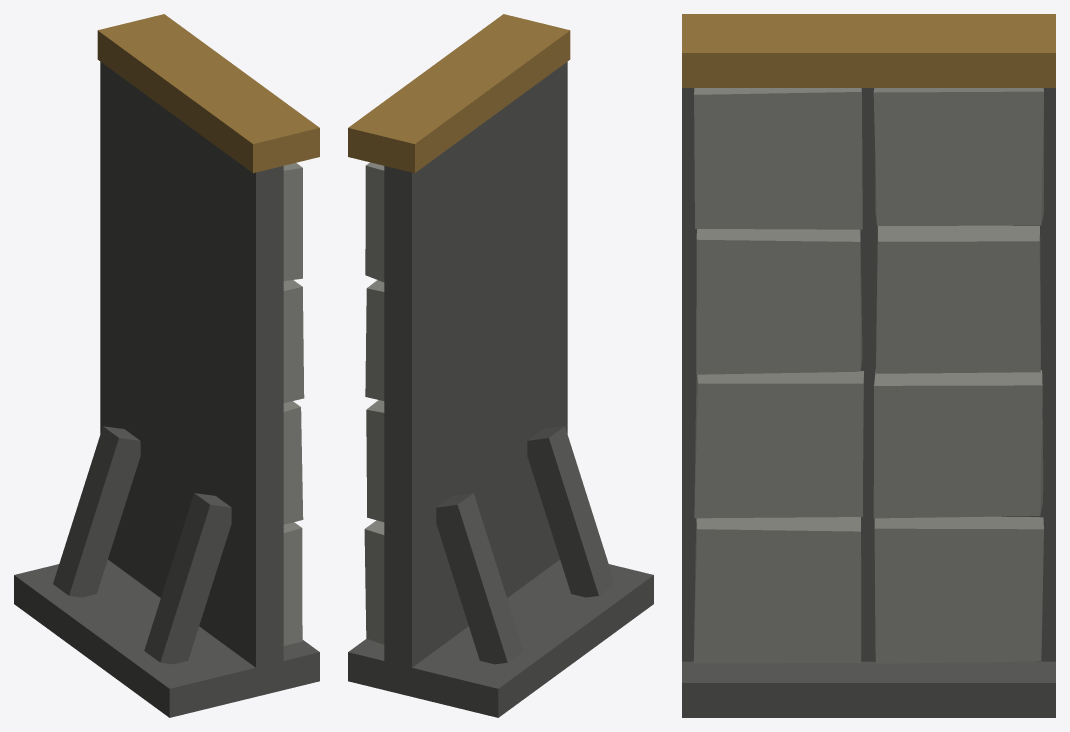
The model's file is arm_ceramic_tile.glb.
3 renders of one model, left to right at view 1: azimuth 30°, elevation 25°; view 2: azimuth 150°, elevation 25°; view 3: azimuth 270°, elevation 25°, orthographic. The views are drawn at different scales.
Visible parts, largest first — view 1: arm_ceramic_tile; view 2: arm_ceramic_tile; view 3: arm_ceramic_tile.
Boxes of the visible parts, left/top/right/bottom form: arm_ceramic_tile: left=14, top=14, right=319, bottom=717; arm_ceramic_tile: left=348, top=14, right=653, bottom=717; arm_ceramic_tile: left=682, top=14, right=1055, bottom=717.
Size of the model in its own units: 0.27 by 0.95 by 0.484.
